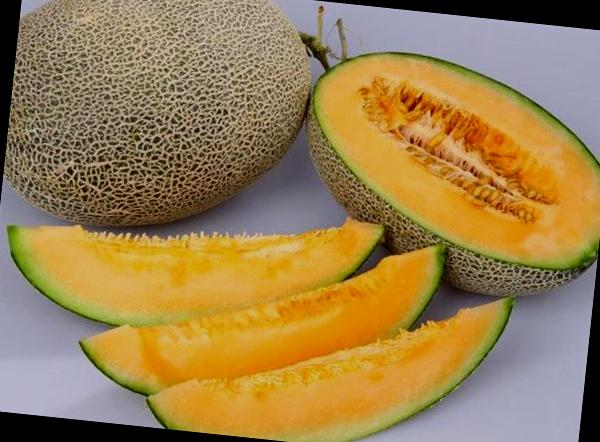Melon Ripe: (71, 208, 459, 424), (289, 41, 600, 294), (1, 0, 328, 235), (141, 258, 519, 442), (1, 178, 395, 340)
